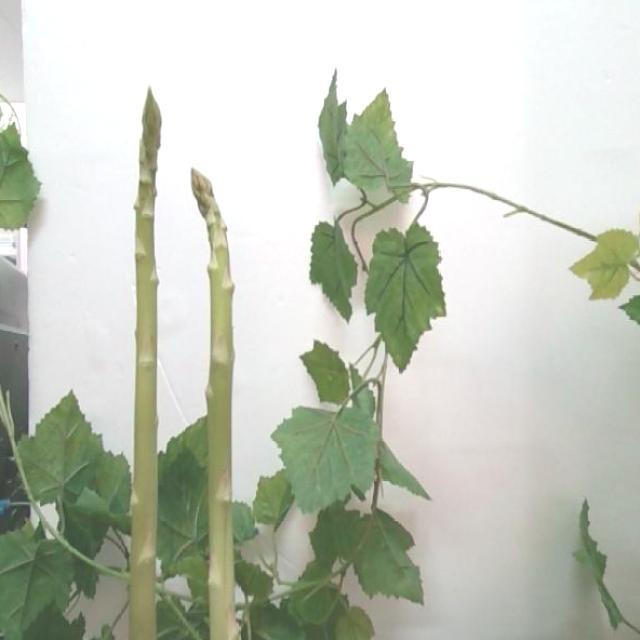aspargus: (190, 168, 237, 640), (127, 90, 163, 640)
